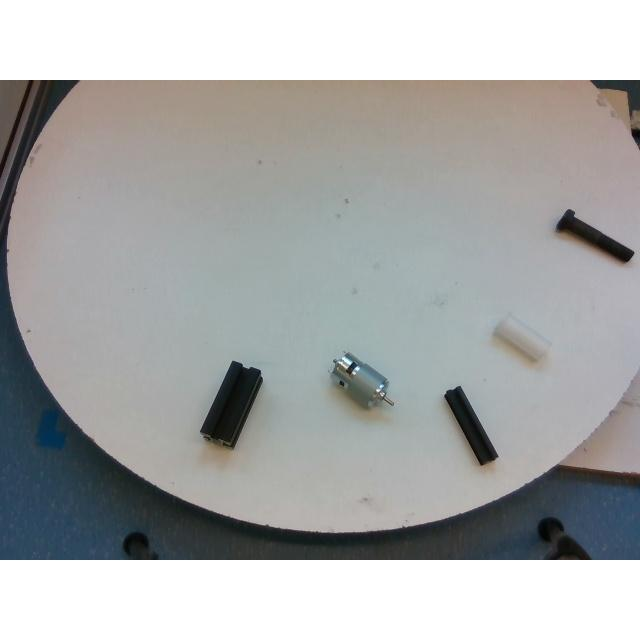F20_20_B: (445, 386, 499, 466)
M20_100: (556, 209, 632, 261)
Motor2: (331, 352, 393, 408)
S40_40_B: (202, 361, 262, 447)
Spacer: (494, 317, 550, 358)
